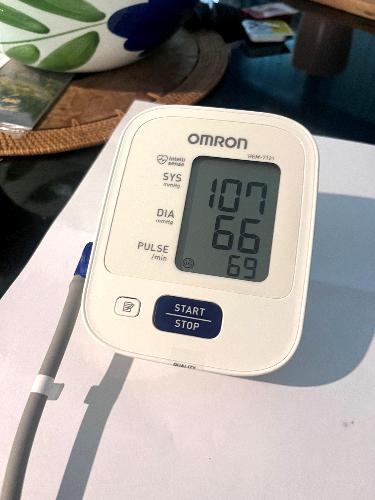bpm: (173, 150, 285, 284)
